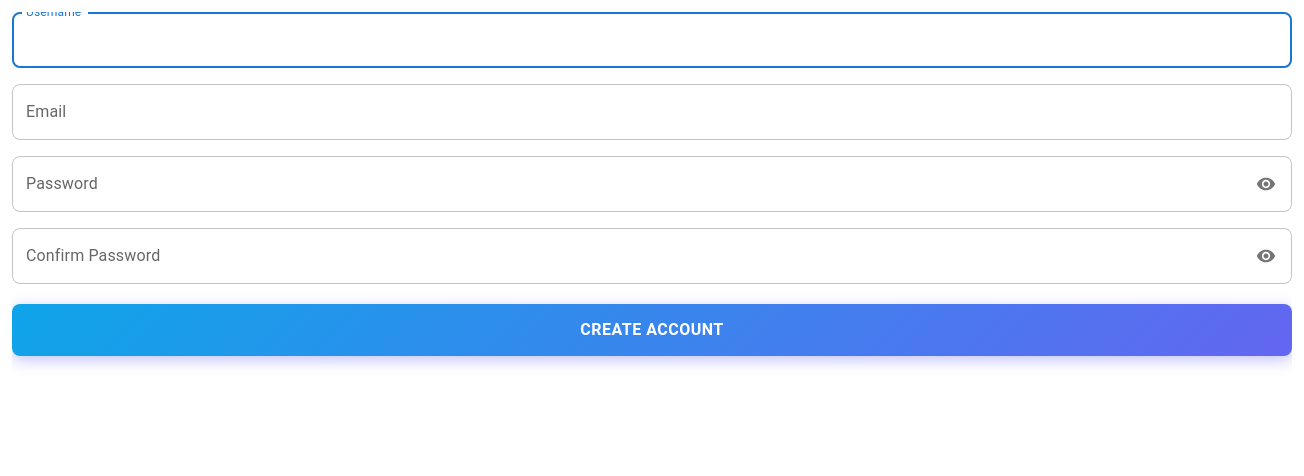
Test: RegisterForm › shows validation errors on all 3 fields when submitting empty form
The width and height of the screenshot is (1304, 476).
Step 1. Click the button "Create Account" → (652, 330), box [12, 304, 1292, 356]
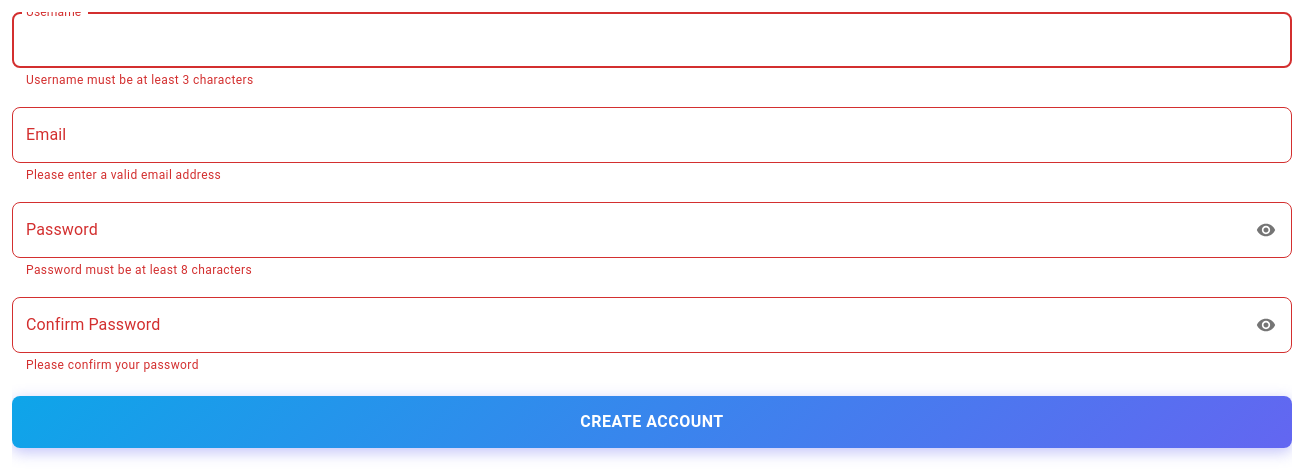
Expected: the text "Username must be at least 3 characters" is shown, [26, 73, 254, 87]
Expected: the text "Please enter a valid email address" is shown, [26, 168, 221, 182]
Expected: the text "Password must be at least 8 characters" is shown, [26, 263, 252, 277]
